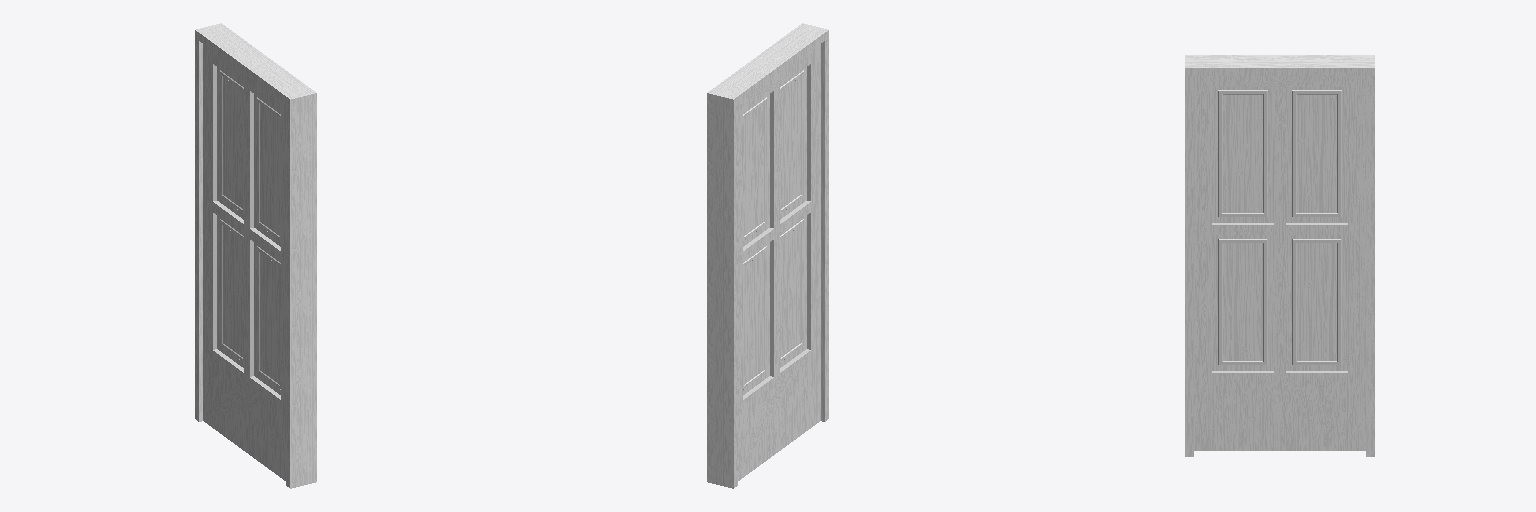
3 renders of one model, left to right at view 1: azimuth 30°, elevation 25°; view 2: azimuth 150°, elevation 25°; view 3: azimuth 270°, elevation 25°, orthographic.
Parts seen in each view (by area): view 1: Door_bedroom.005; view 2: Door_bedroom.005; view 3: Door_bedroom.005.
Boxes of the visible parts, x1,y1,x2,y2 form: Door_bedroom.005: [195, 23, 316, 488]; Door_bedroom.005: [707, 23, 828, 488]; Door_bedroom.005: [1185, 55, 1374, 456].
Size of the model in its own units: 0.2582 by 3.6 by 1.6.
1 materials, 1 textured.